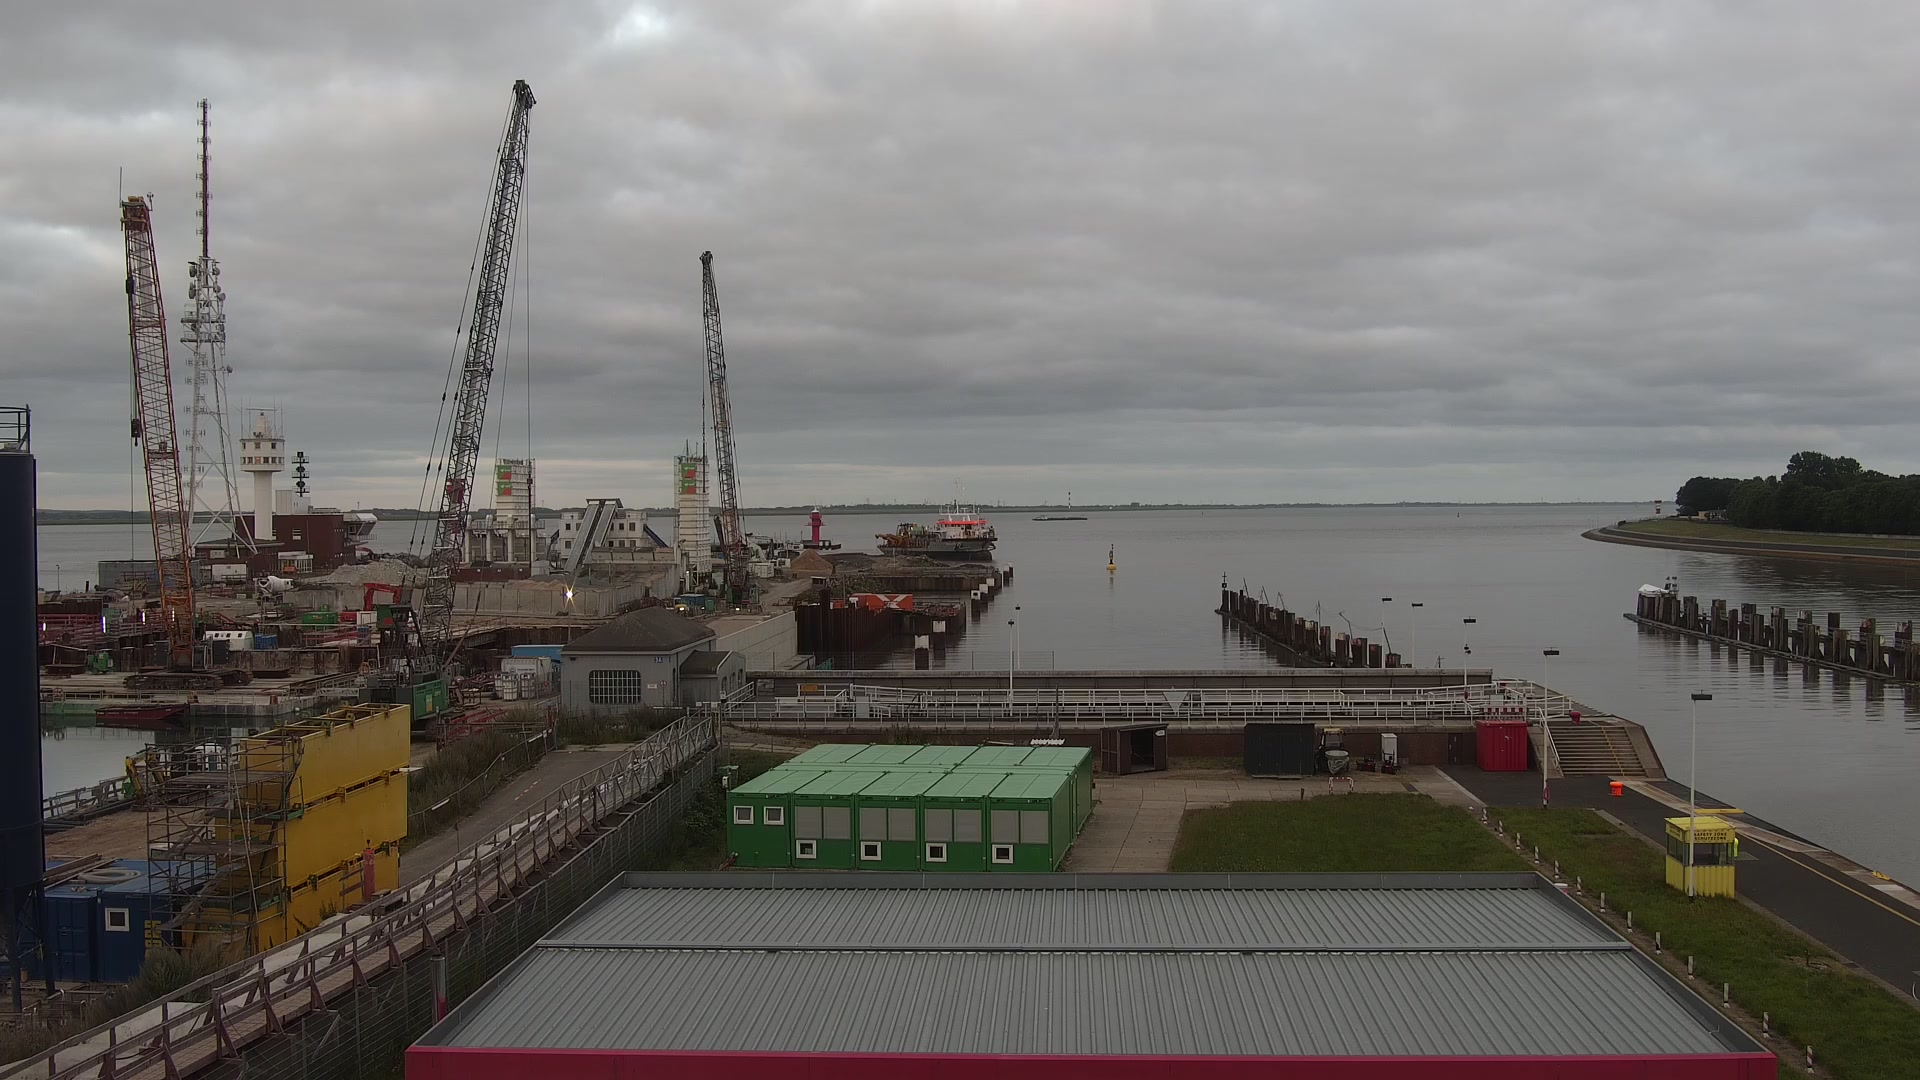land: (124, 746, 212, 811)
sea: (876, 477, 998, 560), (94, 702, 190, 721), (1031, 513, 1088, 521)
